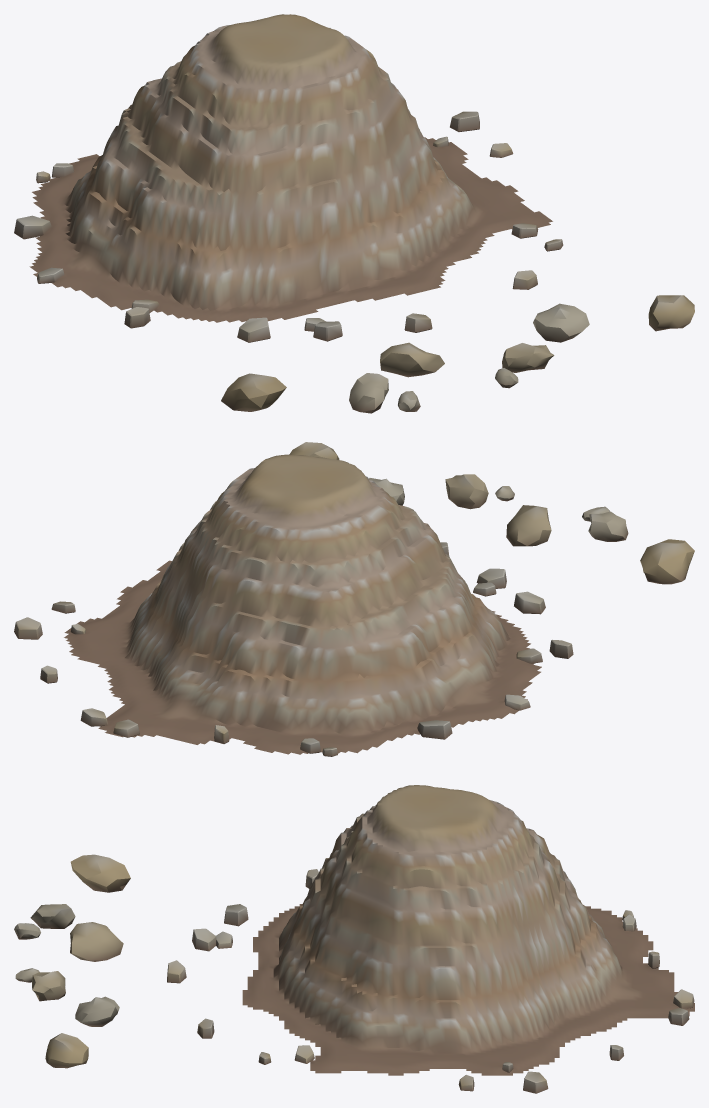
Rendered from dep_sulfate.glb.
The picture shows the model from 3 angles, top to bottom: view 1: azimuth 30°, elevation 25°; view 2: azimuth 150°, elevation 25°; view 3: azimuth 270°, elevation 25°; orthographic projection. The views are drawn at different scales.
Parts seen in each view (by area): view 1: dep_sulfate_mesh, block_0_mesh, block_1_mesh, block_2_mesh, block_4_mesh, block_3_mesh, block_5_mesh; view 2: dep_sulfate_mesh, block_0_mesh, block_2_mesh, block_3_mesh, block_1_mesh, block_5_mesh; view 3: dep_sulfate_mesh, block_2_mesh, block_0_mesh, block_1_mesh, block_5_mesh, block_3_mesh, block_4_mesh.
Boxes of the visible parts, x1,y1,x2,y2 form: dep_sulfate_mesh: [14, 14, 563, 342]; block_0_mesh: [221, 373, 286, 411]; block_1_mesh: [349, 373, 420, 413]; block_2_mesh: [380, 342, 444, 377]; block_4_mesh: [533, 303, 589, 342]; block_3_mesh: [495, 343, 554, 388]; block_5_mesh: [648, 295, 694, 331]; dep_sulfate_mesh: [14, 454, 573, 756]; block_0_mesh: [640, 539, 694, 584]; block_2_mesh: [506, 505, 551, 546]; block_3_mesh: [445, 474, 514, 509]; block_1_mesh: [582, 506, 628, 541]; block_5_mesh: [290, 442, 339, 459]; dep_sulfate_mesh: [167, 785, 694, 1093]; block_2_mesh: [70, 922, 123, 961]; block_0_mesh: [70, 854, 130, 892]; block_1_mesh: [14, 904, 75, 939]; block_5_mesh: [45, 1033, 88, 1068]; block_3_mesh: [15, 968, 65, 1001]; block_4_mesh: [75, 996, 119, 1026].
Bounding box in the file's own units: 6.45 × 2.31 × 8.31.
